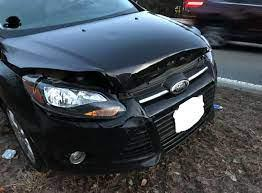bonnet-dent: (0, 20, 213, 78)
